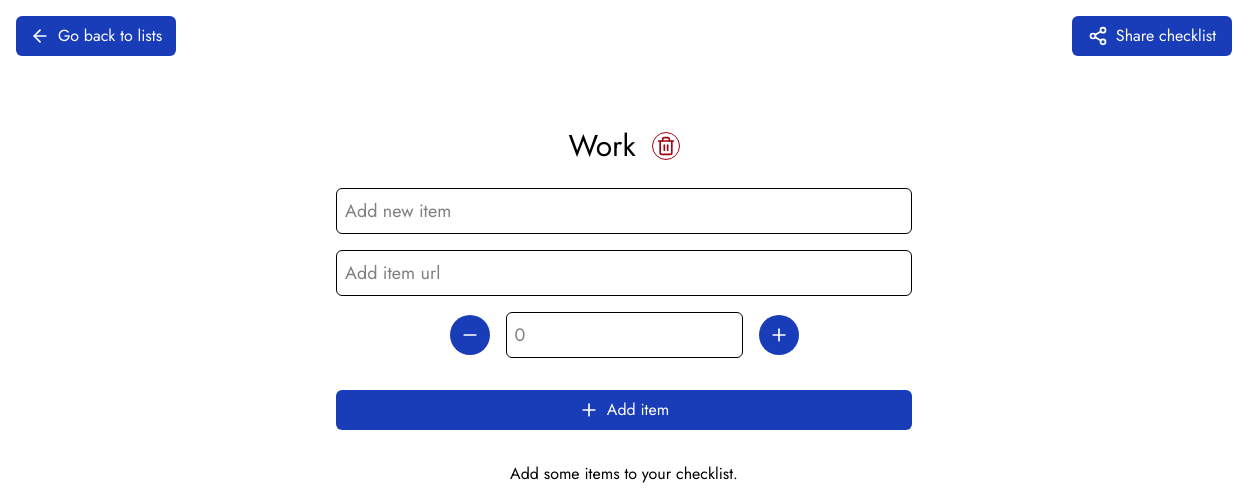
Test: Checklist › sharing the checklist URL › displays an error message when sharing fails
Expected: the heading "Work" is shown, [568, 128, 636, 164]
What coordinates should you click on to do the following:
click the button "Share checklist"
I would click on:
 (1152, 36)
Its box is [1072, 16, 1232, 56].
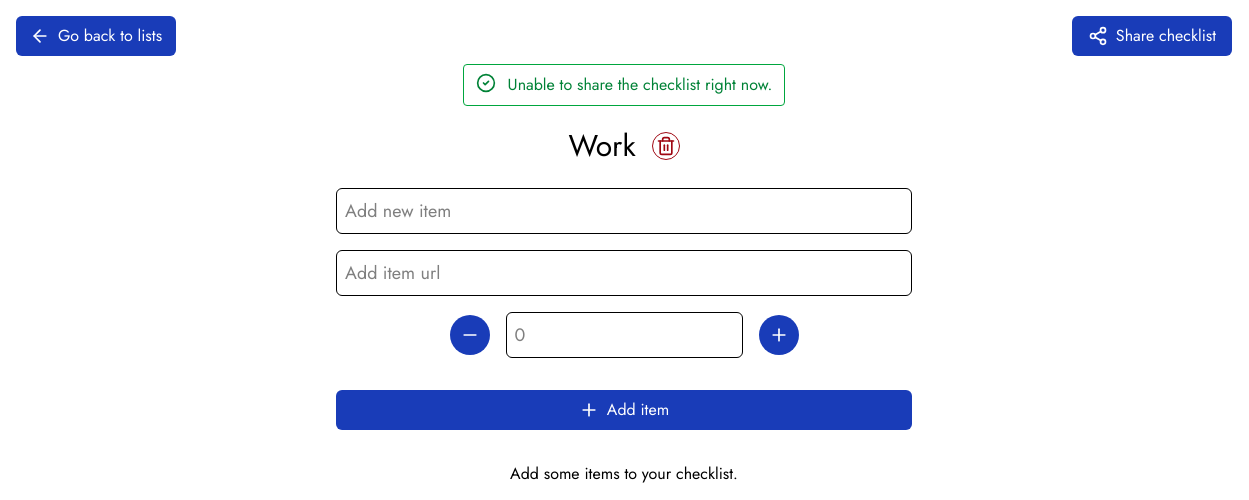
Now the text "Unable to share the checklist right now." is shown, box [463, 64, 785, 106]
